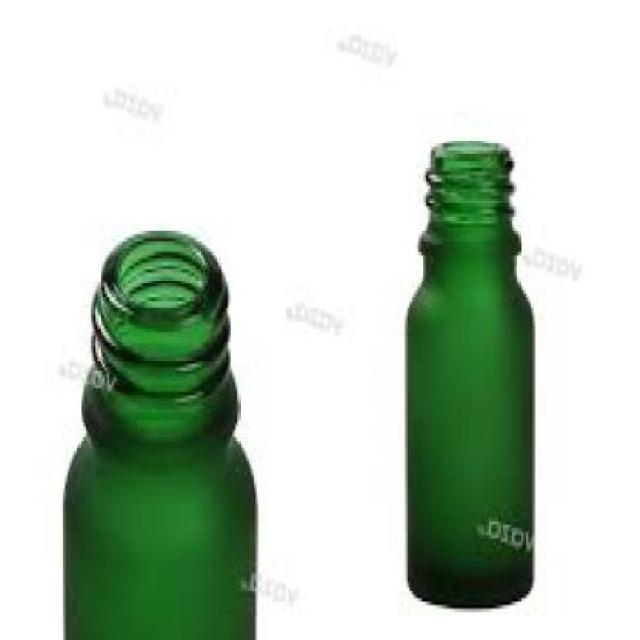GLASS: (65, 227, 261, 636), (408, 137, 535, 605)
